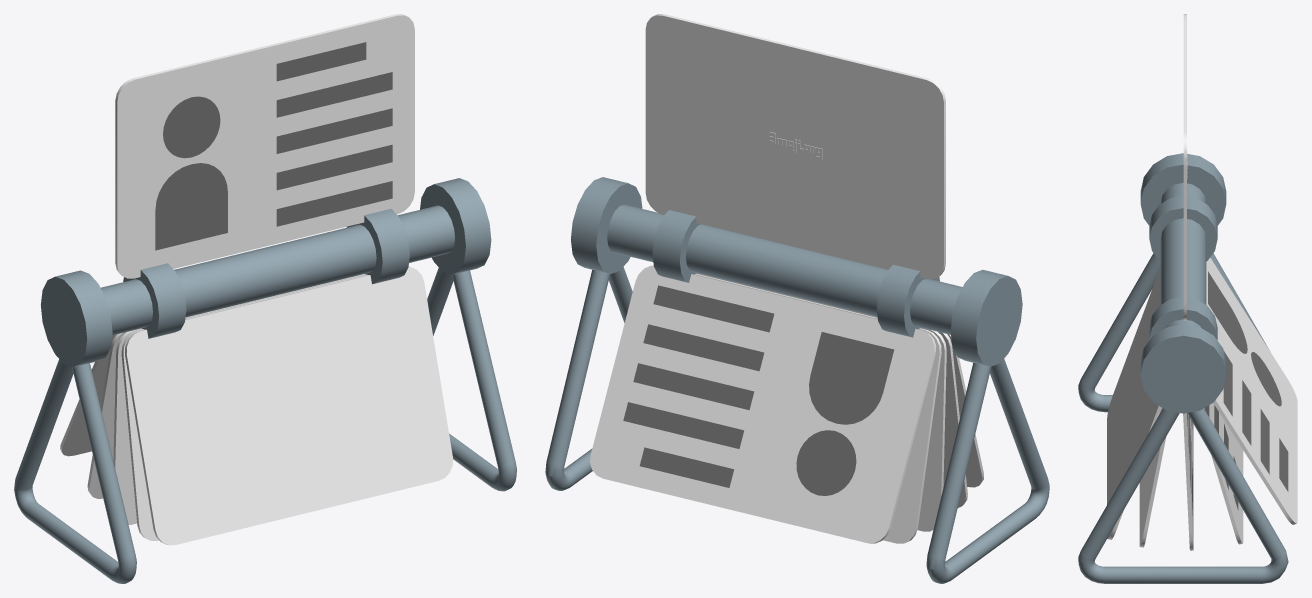
The model's file is card_index.glb.
3 views of the same model, side by side, from view 1: azimuth 30°, elevation 25°; view 2: azimuth 150°, elevation 25°; view 3: azimuth 270°, elevation 25° (orthographic). The views are drawn at different scales.
Parts seen in each view (by area): view 1: Cylinder.509; view 2: Cylinder.509; view 3: Cylinder.509.
Part boxes in pixels (x1,y1,x2,y2): Cylinder.509: (14, 14, 516, 583); Cylinder.509: (545, 14, 1049, 583); Cylinder.509: (1078, 14, 1297, 583).
Bounding box in the file's own units: 2.03 × 2.18 × 1.03.
Materials: 1 (1 with a texture image).
